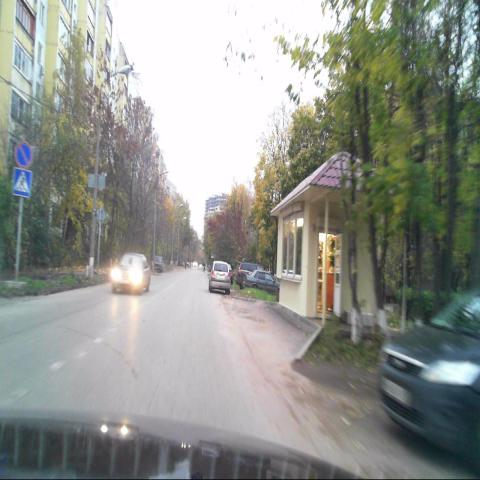3_28: (15, 138, 34, 170)
